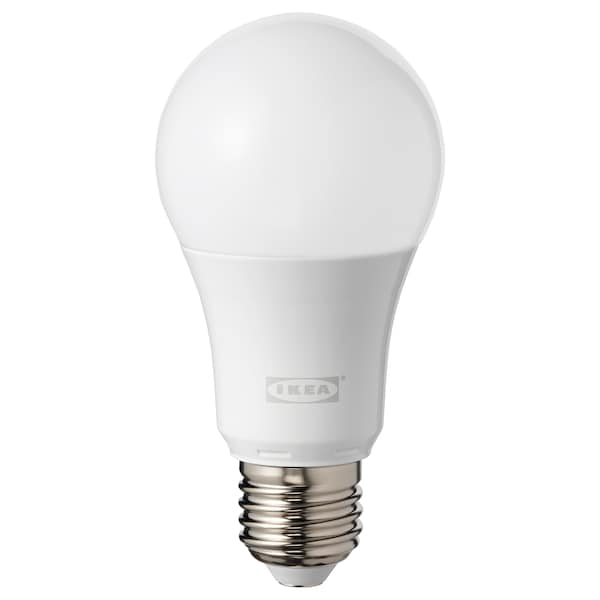Light_bulb: (144, 6, 456, 591)
